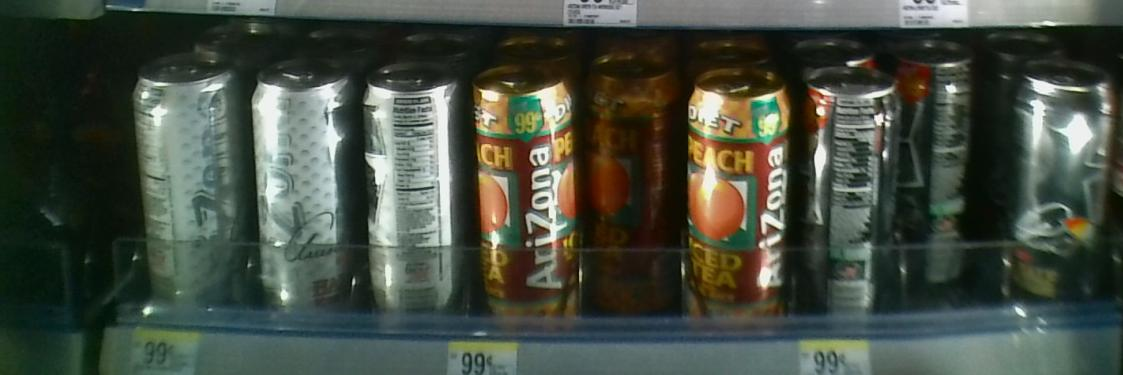bottle: (246, 60, 366, 320), (128, 50, 248, 309), (465, 56, 582, 319), (688, 55, 794, 321), (791, 67, 897, 325), (1010, 51, 1115, 309), (365, 55, 467, 318), (900, 43, 988, 311), (590, 46, 678, 297)
